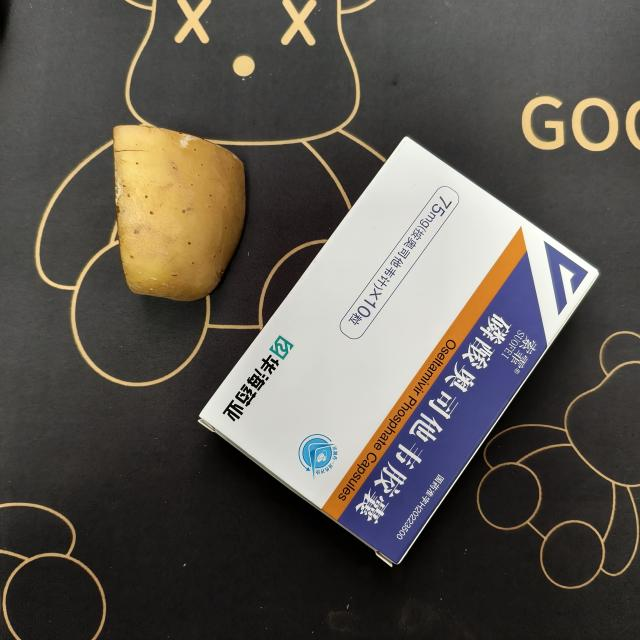-Kitchen waste - potato-: (112, 121, 250, 301)
-Recyclables - paper box-: (202, 136, 600, 564)
